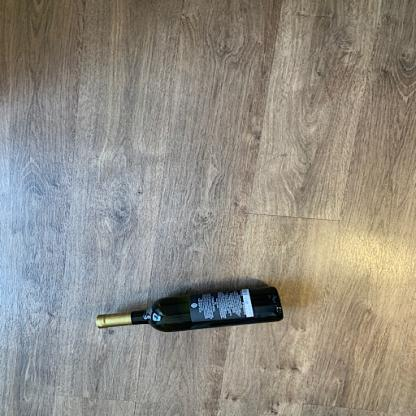trash: (94, 285, 284, 333)
